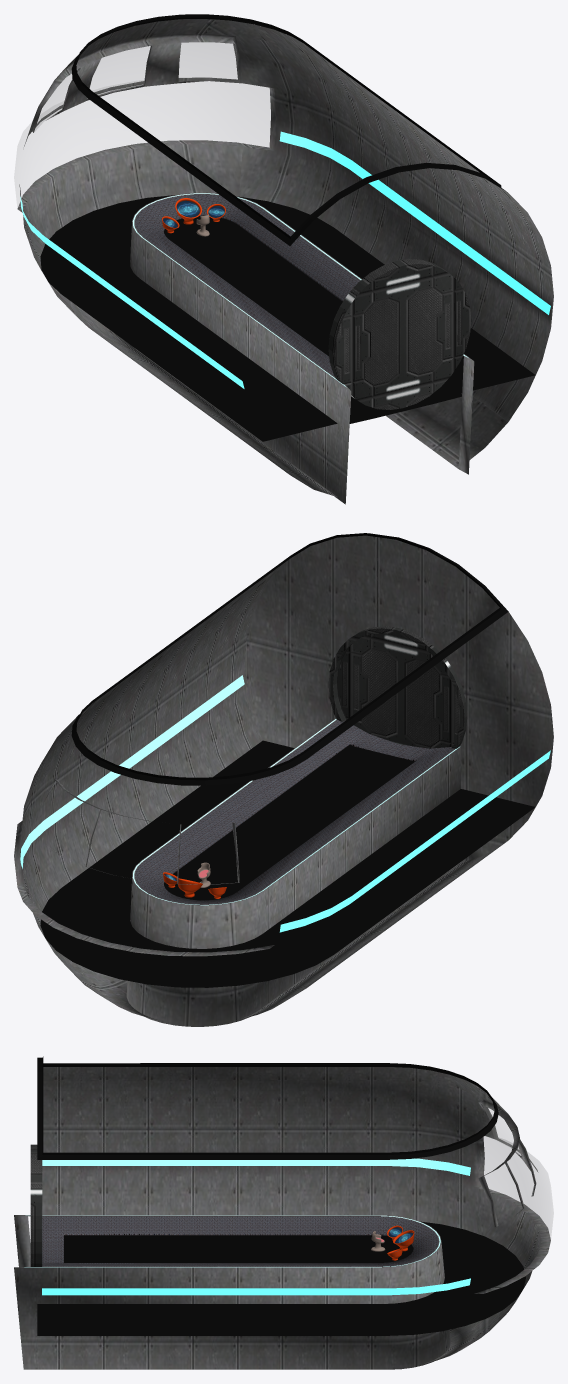
Rendered from ship.glb.
The picture shows the model from 3 angles, top to bottom: view 1: azimuth 30°, elevation 25°; view 2: azimuth 150°, elevation 25°; view 3: azimuth 270°, elevation 25°; orthographic projection. The views are drawn at different scales.
Visible parts, largest first — view 1: Sci-Fi Space Station; view 2: Sci-Fi Space Station; view 3: Sci-Fi Space Station.
Part boxes in pixels (box(x1,y1,x2,y2)): Sci-Fi Space Station: box(14, 14, 553, 504); Sci-Fi Space Station: box(14, 533, 553, 1026); Sci-Fi Space Station: box(14, 1056, 553, 1369).
Size of the model in its own units: 20.08 by 20.25 by 34.86.
Materials: 12 (4 with a texture image).
